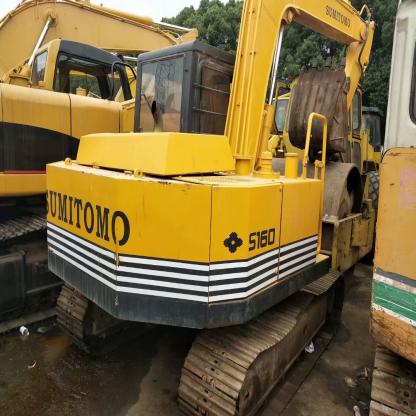excavator: (50, 0, 385, 413)
